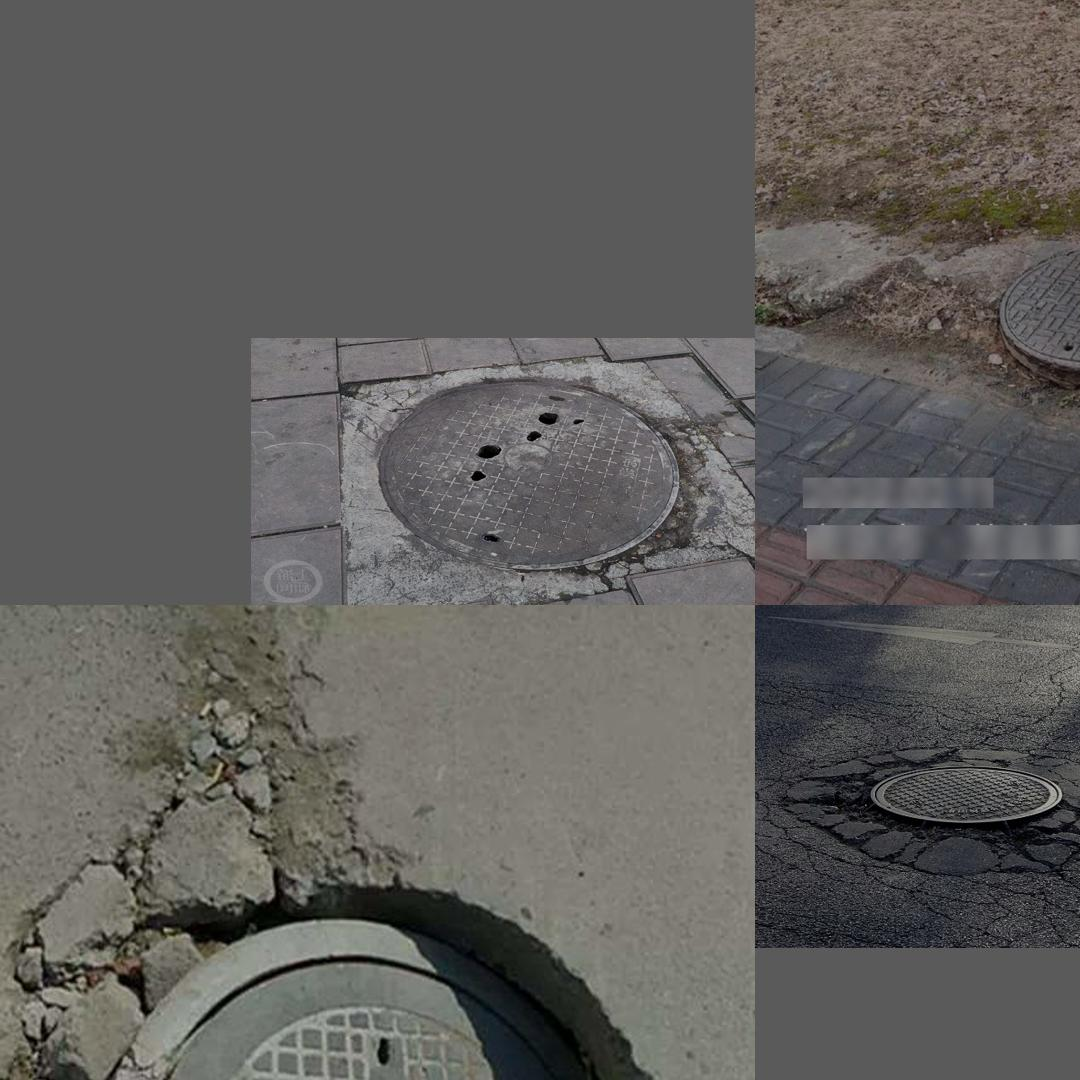circle: (0, 682, 658, 1080), (327, 353, 742, 598), (817, 742, 1080, 892), (994, 240, 1080, 384)
